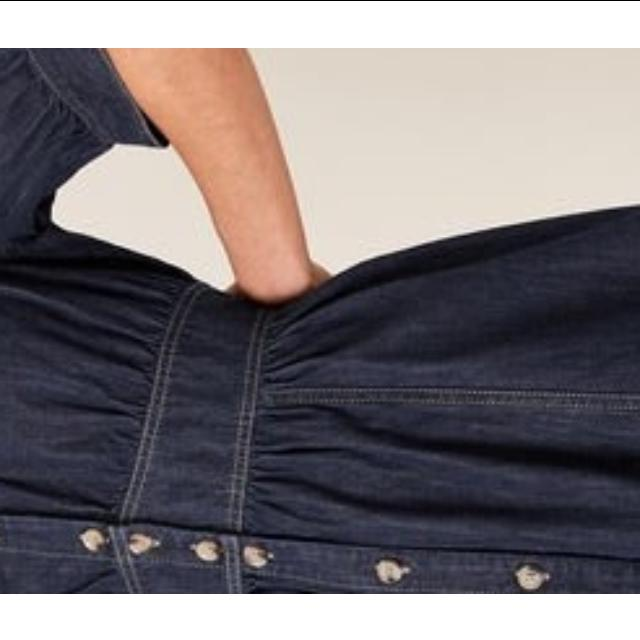denim: (390, 232, 640, 592)
